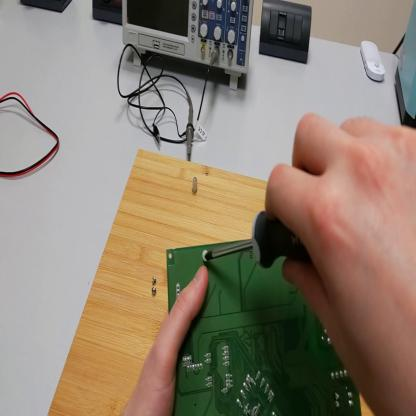hand: (266, 108, 416, 415), (126, 262, 210, 415)
low voltage board: (166, 241, 361, 416)
oscilloscope: (122, 2, 256, 96)
oscilloscope probe tip: (186, 88, 195, 160)
screwdriver-: (205, 210, 309, 269)
socket: (21, 1, 73, 16), (93, 3, 123, 27)
welder station: (395, 2, 415, 126)
working area: (47, 149, 272, 414)
